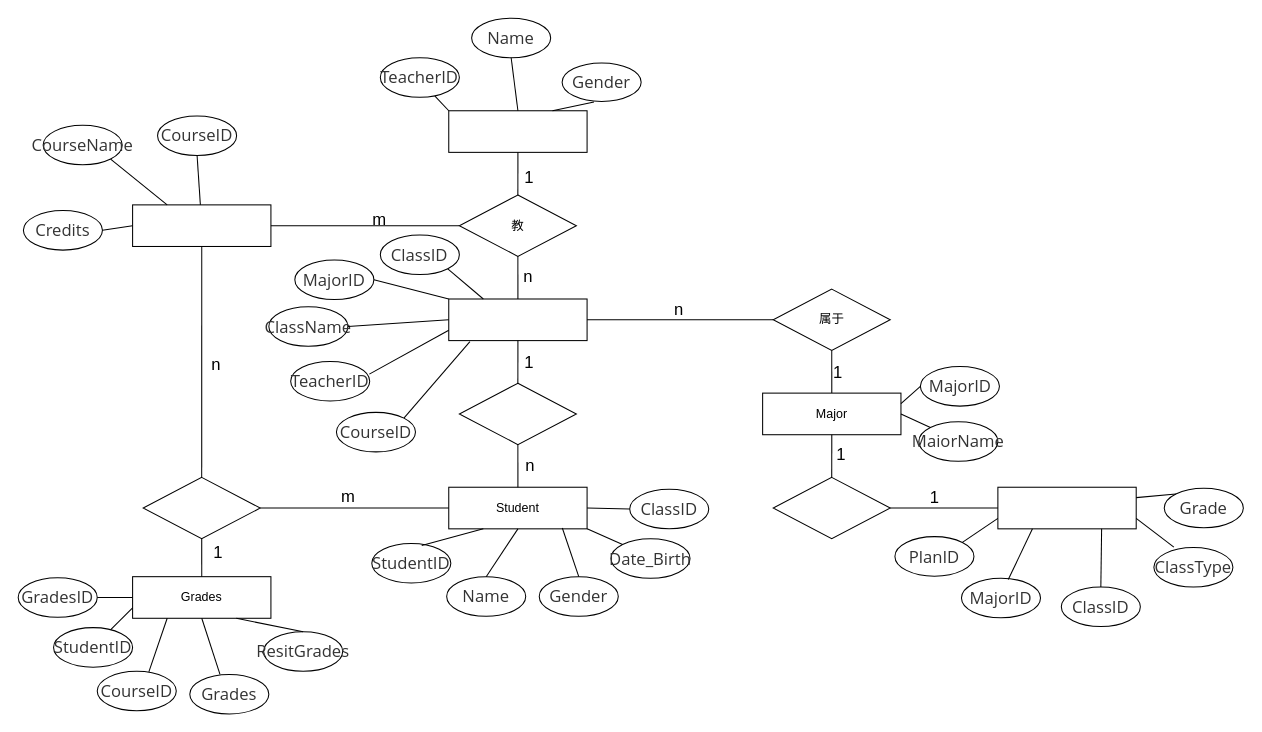
The diagram is 1262 pixels wide and 732 high, and some of its shapes have lost their labels. Here are the shapes that lost their labels. From the top down, the centre of each, then its label:
the point at 517,131: Teacher
the point at 201,225: Course
the point at 517,319: Class
the point at 517,413: 包含
the point at 201,507: 对应
the point at 831,507: 制定
the point at 1066,507: Plan
